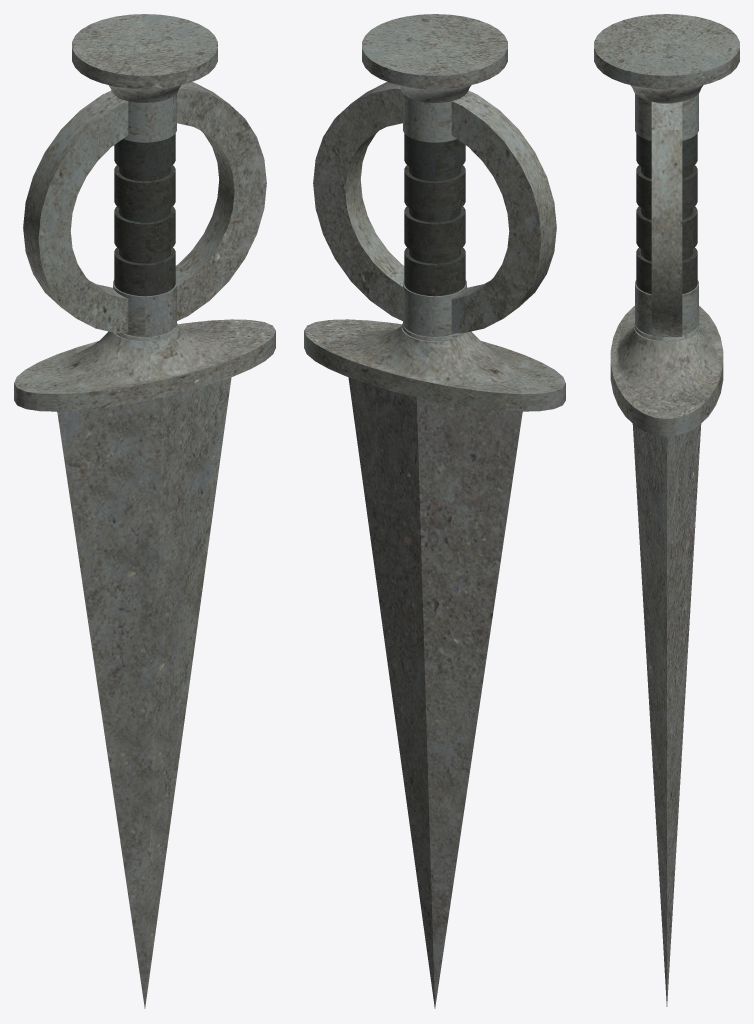
The model's file is rivenMyst_sword.fbx.
3 views of the same model, side by side, from view 1: azimuth 30°, elevation 25°; view 2: azimuth 150°, elevation 25°; view 3: azimuth 270°, elevation 25° (orthographic).
Parts seen in each view (by area): view 1: pCylinder8; view 2: pCylinder8; view 3: pCylinder8.
Part boxes in pixels (bbox=[...]): pCylinder8: bbox=[14, 14, 275, 1008]; pCylinder8: bbox=[304, 14, 565, 1008]; pCylinder8: bbox=[594, 14, 739, 1006].
Size of the model in its own units: 2.29 by 8.28 by 1.13.
1 material, 1 textured.
